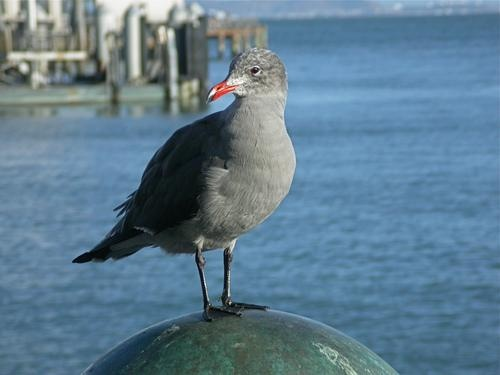bird: (73, 44, 296, 324)
